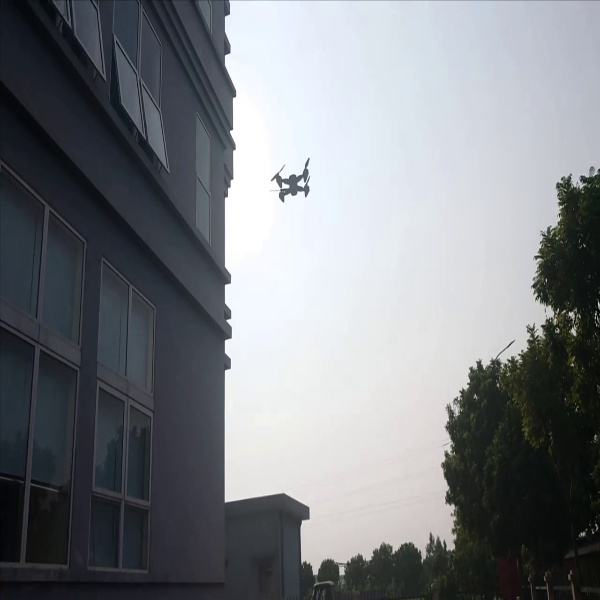drone: (268, 151, 326, 210)
